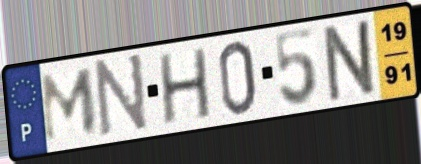0: (215, 38, 260, 118)
5: (272, 25, 319, 109)
H: (156, 44, 215, 127)
M: (40, 65, 99, 145)
N: (322, 15, 380, 105), (94, 50, 150, 140)
